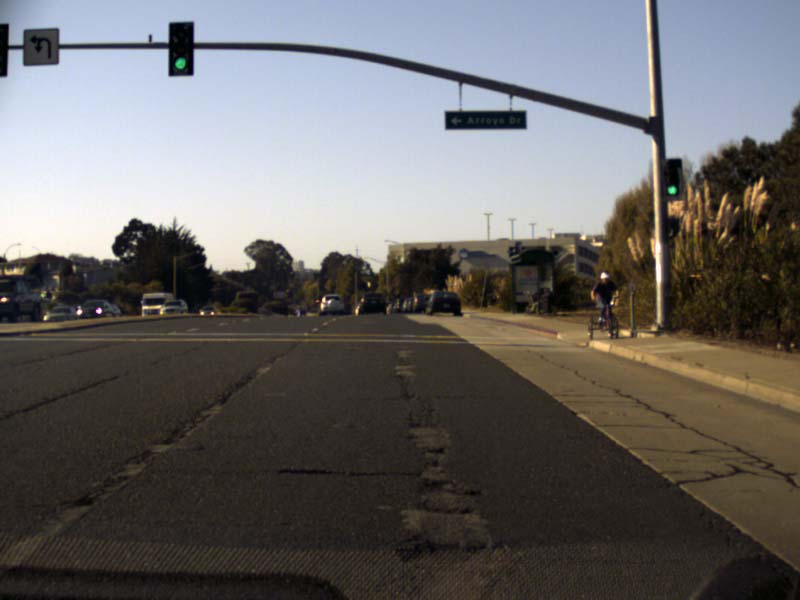Green: (168, 20, 194, 77), (661, 159, 682, 200)
